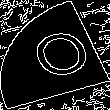O_S: (18, 23, 92, 87)
